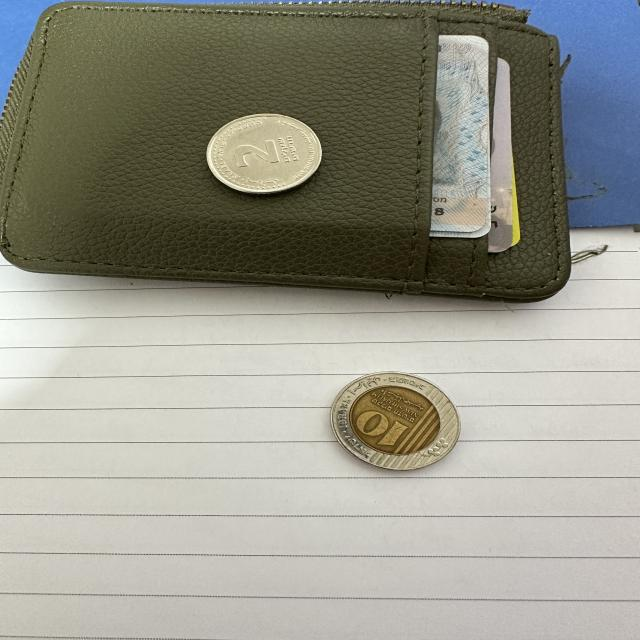10-shekel: (327, 372, 461, 474)
2-shekel: (204, 113, 328, 194)
